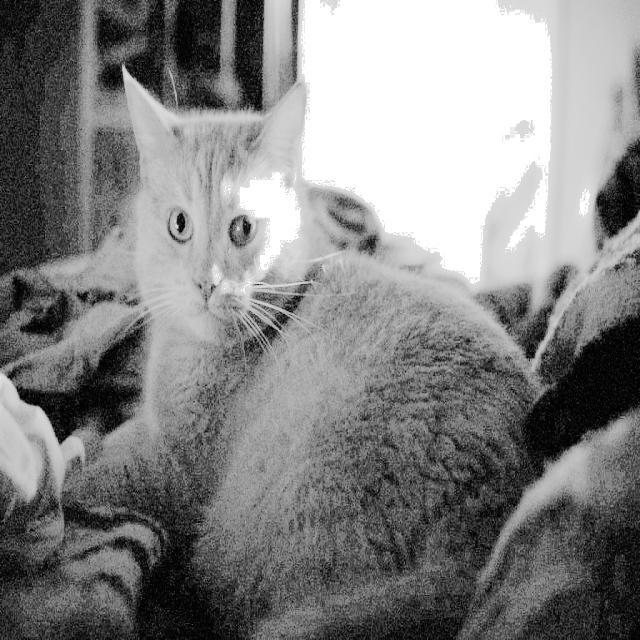Cat: (96, 79, 529, 640)
